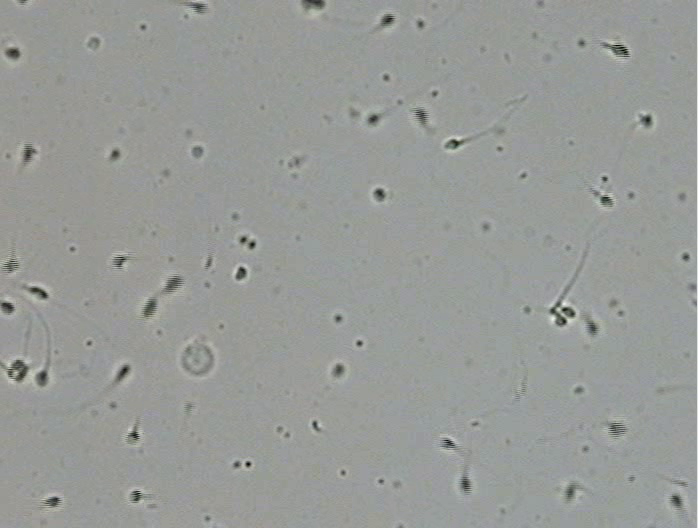Impurity: (181, 343, 215, 375), (86, 36, 100, 50)
S: (7, 359, 29, 382), (164, 273, 183, 292), (607, 421, 627, 439), (142, 297, 157, 318), (28, 286, 49, 301), (610, 44, 631, 59), (21, 142, 35, 163), (413, 107, 429, 125), (457, 476, 472, 495), (188, 1, 208, 15), (3, 257, 19, 274), (115, 365, 130, 382), (41, 496, 62, 508), (564, 483, 576, 502), (125, 431, 141, 445), (585, 319, 598, 336), (301, 1, 325, 10), (112, 255, 126, 270), (1, 301, 16, 315), (35, 371, 49, 386), (380, 13, 395, 27), (668, 494, 682, 509), (439, 438, 456, 450), (331, 363, 345, 377), (372, 188, 386, 202), (4, 48, 20, 60), (191, 145, 204, 159), (128, 490, 142, 503), (600, 195, 614, 208), (235, 266, 247, 281), (444, 139, 460, 150), (561, 306, 576, 317), (641, 113, 653, 126), (555, 315, 567, 326), (110, 149, 121, 160), (367, 114, 378, 124), (16, 1, 28, 6)
